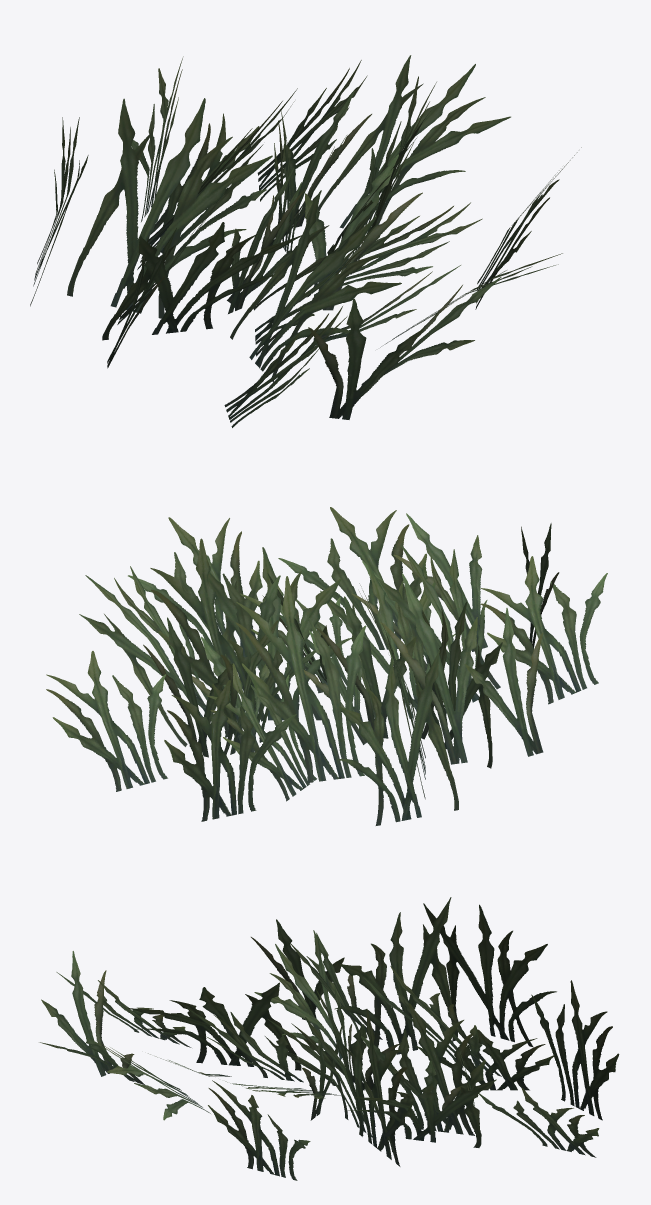
File: map_forest_p_grass003.FBX
3 renders of one model, top to bottom at view 1: azimuth 30°, elevation 25°; view 2: azimuth 150°, elevation 25°; view 3: azimuth 270°, elevation 25°, orthographic. The views are drawn at different scales.
Visible parts, largest first — view 1: map_forest_p_grass003; view 2: map_forest_p_grass003; view 3: map_forest_p_grass003.
Part boxes in pixels (left/top/right/bottom): map_forest_p_grass003: left=30, top=55, right=581, bottom=427; map_forest_p_grass003: left=46, top=507, right=607, bottom=825; map_forest_p_grass003: left=39, top=897, right=619, bottom=1180.
Size of the model in its own units: 204 by 90.71 by 230.
